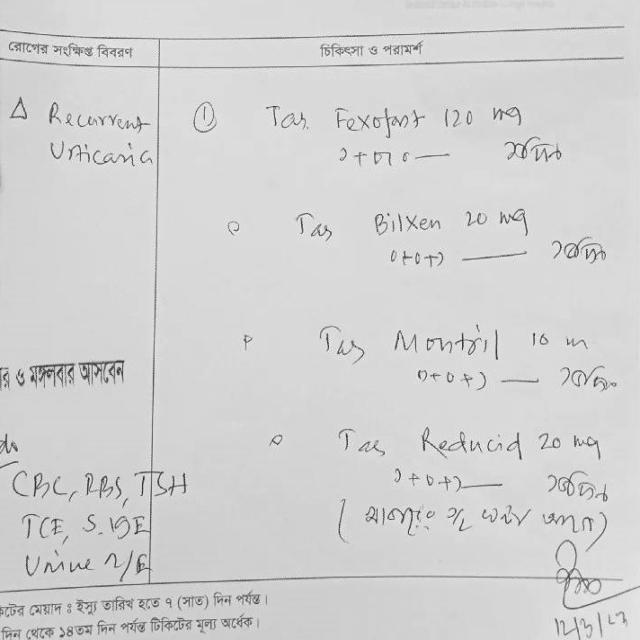medicine: (409, 416, 534, 469), (386, 314, 510, 364), (326, 100, 428, 142), (358, 201, 454, 243)
